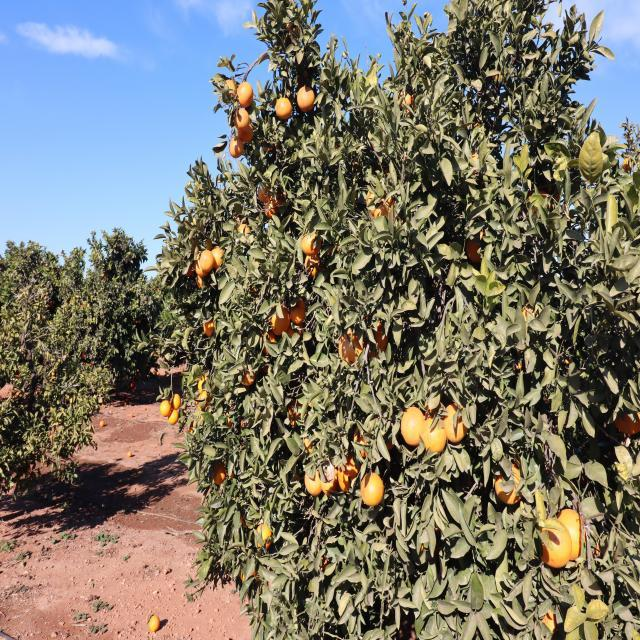Jeruk Sudah Matang: (532, 512, 572, 570), (492, 454, 526, 507), (555, 508, 589, 558), (440, 398, 474, 444), (419, 414, 449, 460), (337, 323, 367, 367), (615, 392, 640, 442), (366, 315, 391, 361), (360, 468, 386, 512), (531, 598, 558, 640), (350, 422, 379, 460), (402, 402, 424, 450), (464, 228, 491, 266), (525, 187, 552, 222), (251, 518, 277, 553), (336, 456, 363, 488), (286, 396, 312, 426), (303, 462, 323, 498), (320, 460, 340, 496), (588, 530, 612, 560), (386, 187, 403, 227), (519, 301, 539, 335), (300, 226, 324, 254), (364, 182, 384, 214), (296, 82, 318, 110), (303, 254, 325, 282), (260, 327, 282, 355), (396, 88, 418, 116), (326, 230, 346, 260), (302, 431, 324, 457), (314, 550, 336, 576), (271, 304, 290, 334), (235, 364, 258, 388), (289, 294, 308, 323), (236, 81, 256, 108), (372, 202, 390, 232), (378, 423, 396, 453), (274, 95, 294, 121), (238, 560, 258, 586), (210, 459, 227, 488), (238, 218, 255, 244), (212, 242, 227, 270), (201, 316, 220, 338), (200, 248, 215, 275), (222, 413, 244, 431), (230, 134, 248, 156), (234, 107, 252, 129), (238, 121, 255, 144), (287, 322, 304, 344), (272, 183, 288, 206), (262, 200, 279, 221), (547, 186, 564, 206), (222, 76, 236, 100), (196, 371, 211, 392), (258, 178, 270, 204), (194, 253, 207, 276), (492, 67, 506, 88), (196, 394, 212, 412), (159, 398, 173, 418), (186, 416, 200, 436), (472, 118, 486, 138), (166, 409, 180, 428), (468, 152, 480, 174), (182, 258, 194, 278), (202, 234, 214, 254), (194, 275, 208, 291), (170, 392, 182, 410), (626, 153, 634, 176), (228, 467, 238, 483), (98, 418, 108, 431), (81, 348, 88, 358), (137, 370, 143, 378), (102, 274, 108, 282), (124, 401, 130, 407), (130, 381, 134, 388), (90, 363, 94, 368)
